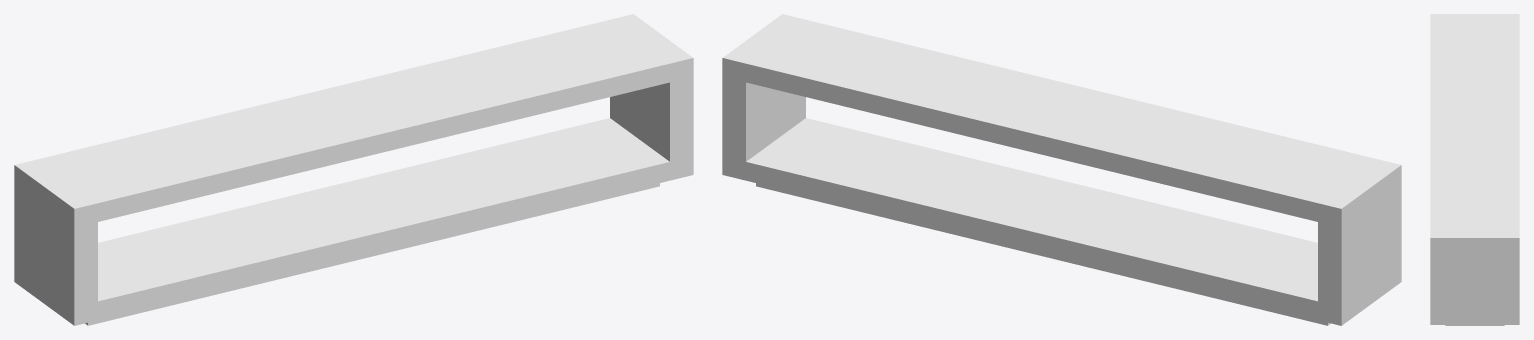
The model's file is lowtable.fbx.
3 views of the same model, side by side, from view 1: azimuth 30°, elevation 25°; view 2: azimuth 150°, elevation 25°; view 3: azimuth 270°, elevation 25° (orthographic). The views are drawn at different scales.
Visible parts, largest first — view 1: Lowtable; view 2: Lowtable; view 3: Lowtable.
Part boxes in pixels (<box>): Lowtable: <box>14,14,693,325</box>; Lowtable: <box>722,14,1401,325</box>; Lowtable: <box>1430,14,1519,325</box>.
Size of the model in its own units: 349 by 69.95 by 58.52.
1 material, 1 textured.
